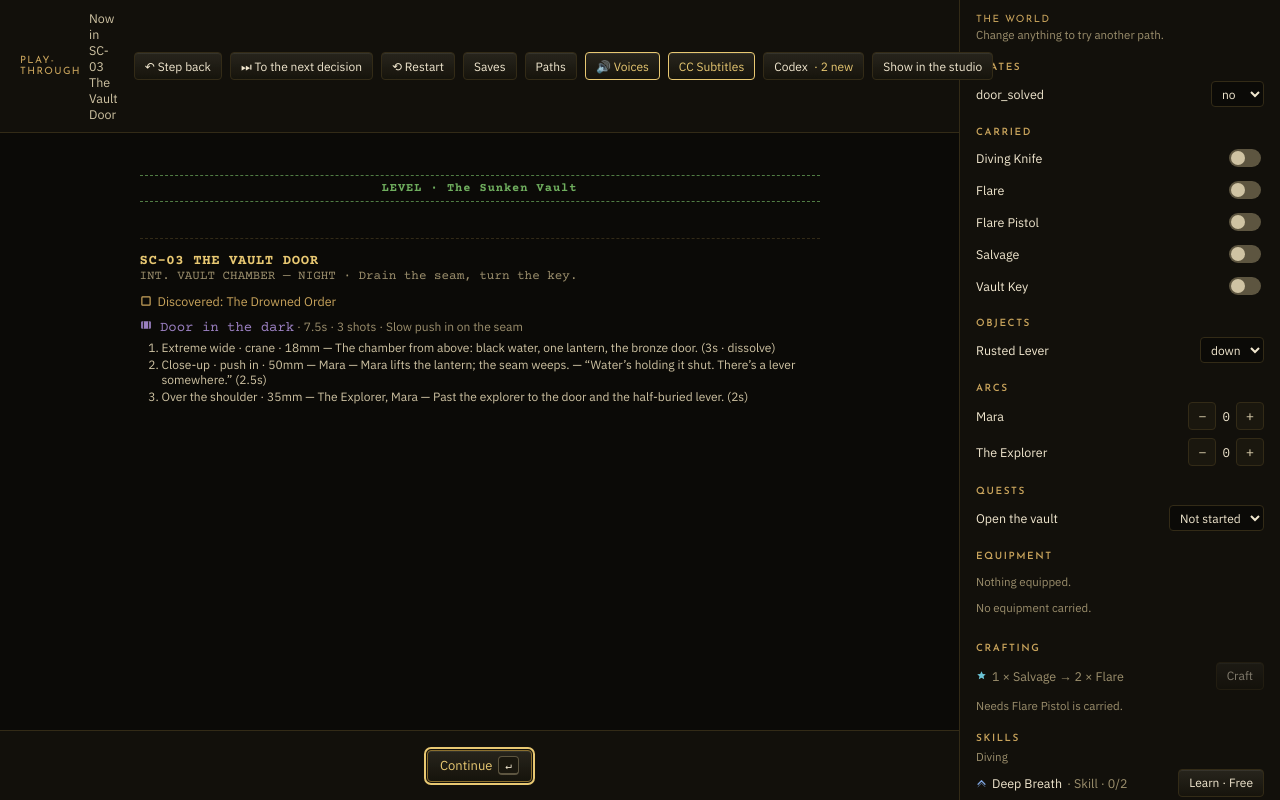
Test: the game preview › plays dual dialogue at once: two voices side by side, one Continue
The width and height of the screenshot is (1280, 800).
Click the button "Continue ↵".
click(480, 766)  # box 427,750 -> 532,782
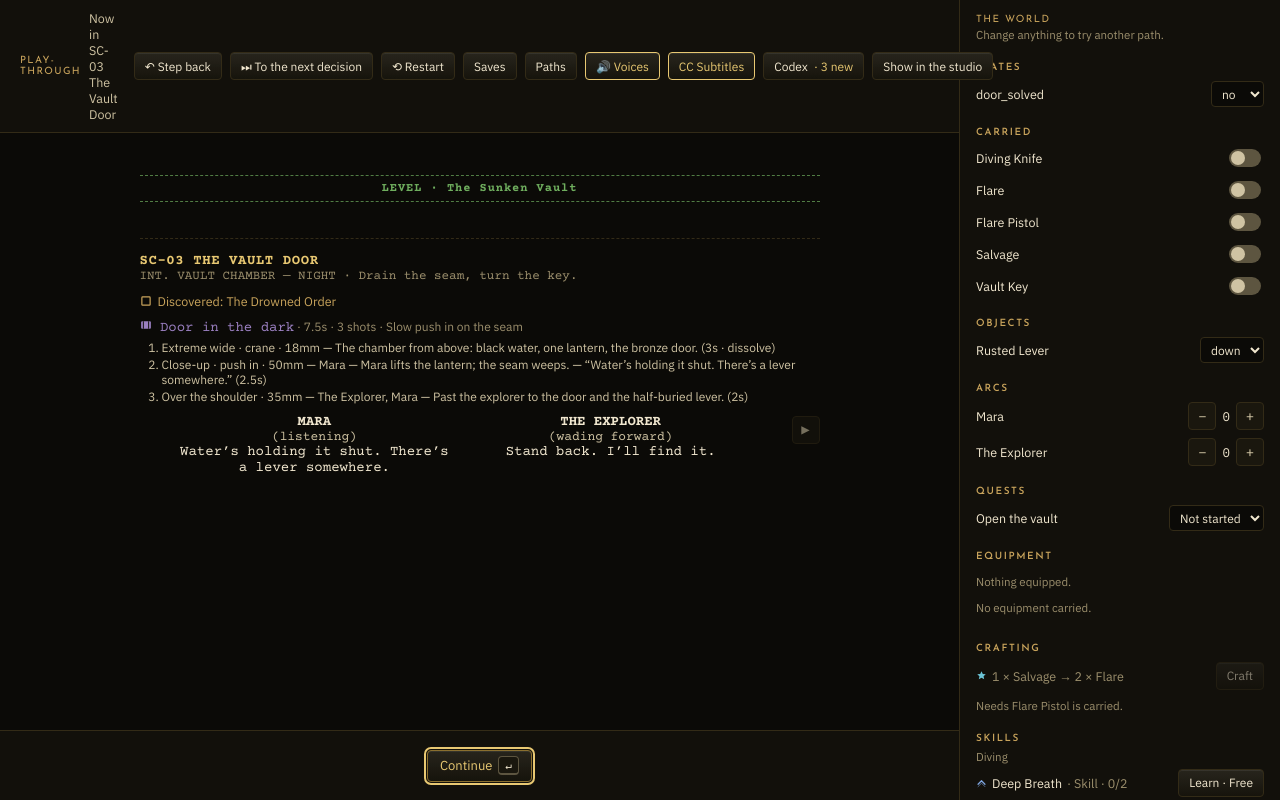
Now the text "(wading forward)" is shown, box 549,430 -> 672,444
Now the text "Stand back. I’ll find it." is shown once, box 506,444 -> 716,460
